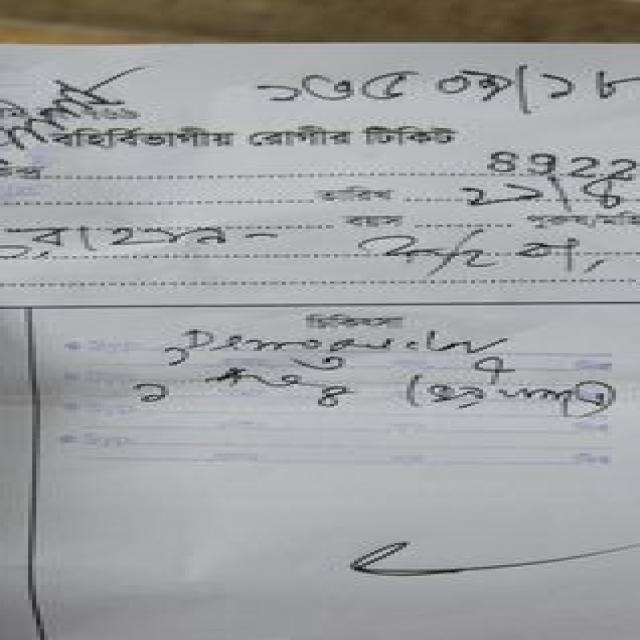Demoxiclave: (142, 325, 556, 364)
